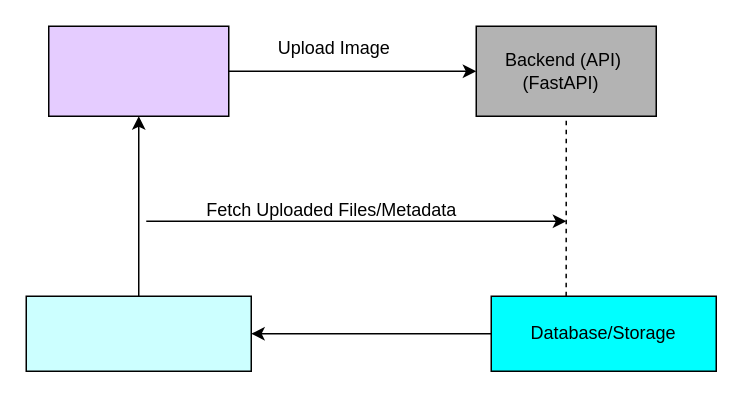
The diagram is 743 pixels wide and 398 high, and some of its shapes have lost their labels. The box of each missing label's shape, as (x1, y1, x2, y2) in pixels:
Frontend (UI) (React.js): (47, 25, 229, 116)
User's Browser: (25, 295, 251, 371)
